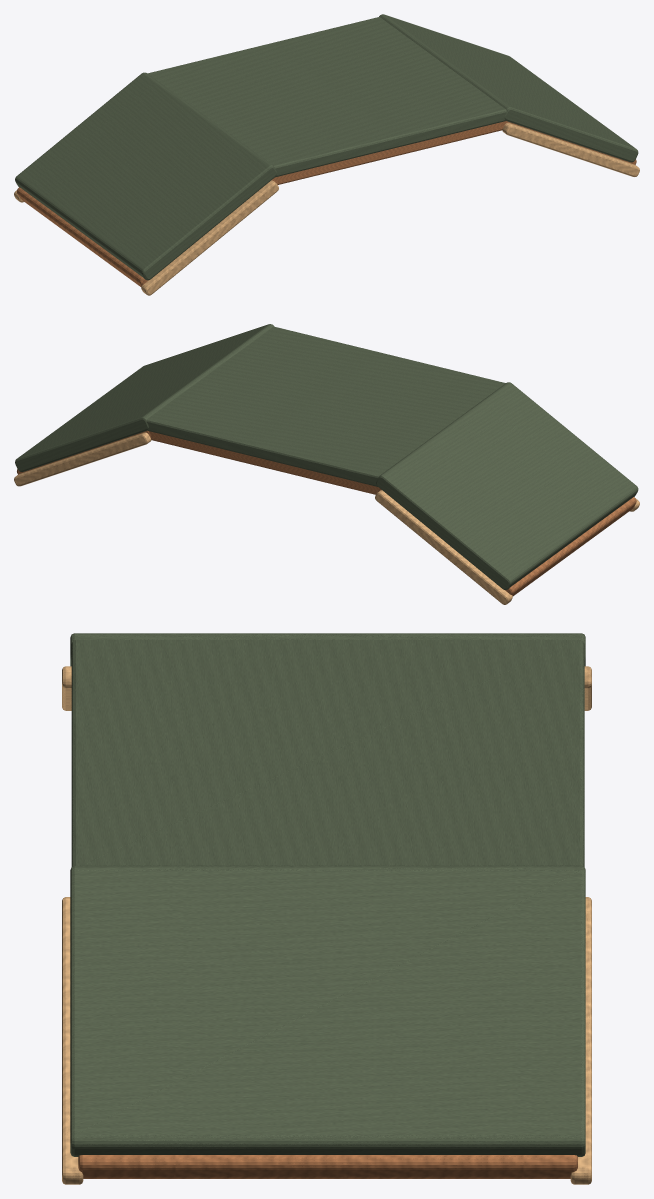
Rendered from roof.glb.
The picture shows the model from 3 angles, top to bottom: view 1: azimuth 30°, elevation 25°; view 2: azimuth 150°, elevation 25°; view 3: azimuth 270°, elevation 25°; orthographic projection. The views are drawn at different scales.
Visible parts, largest first — view 1: roof; view 2: roof; view 3: roof.
Part boxes in pixels (box(x1,y1,x2,y2)): roof: box(14, 14, 639, 295); roof: box(14, 324, 639, 604); roof: box(62, 633, 591, 1184).
Bounding box in the file's own units: 5.12 × 0.9688 × 2.37.
3 materials, 3 textured.
